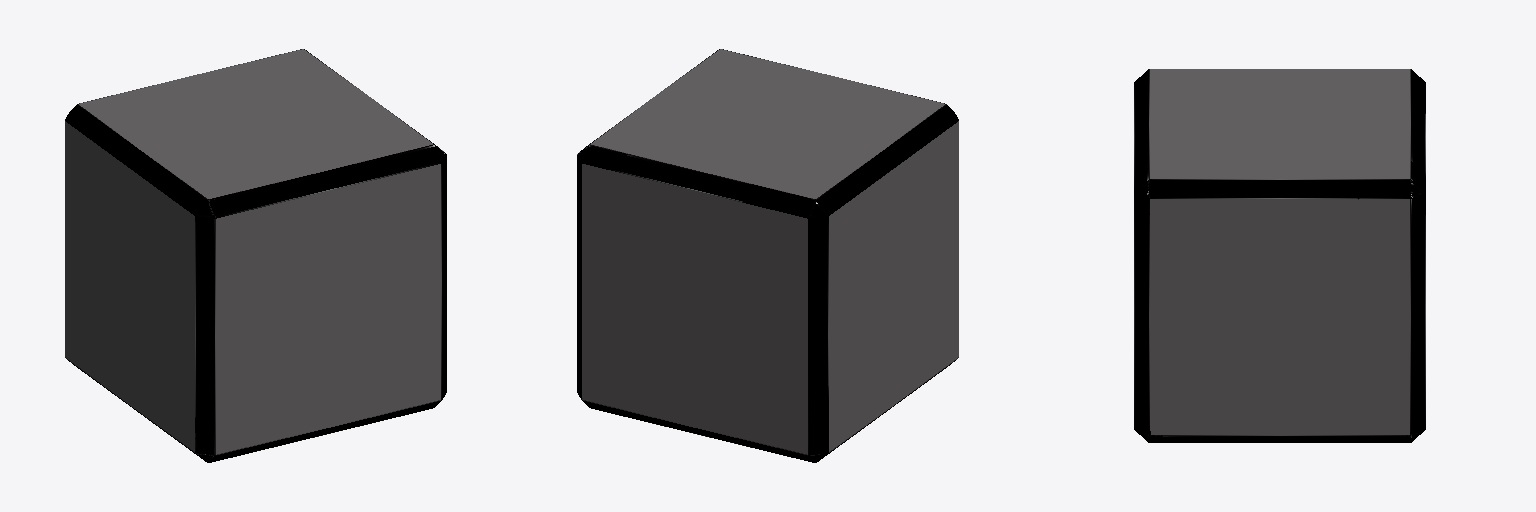
3 views of the same model, side by side, from view 1: azimuth 30°, elevation 25°; view 2: azimuth 150°, elevation 25°; view 3: azimuth 270°, elevation 25° (orthographic).
Visible parts, largest first — view 1: block; view 2: block; view 3: block.
Boxes of the visible parts, x1,y1,x2,y2 form: block: [65, 49, 446, 462]; block: [577, 49, 958, 462]; block: [1134, 69, 1425, 442].
Size of the model in its own units: 1 by 1 by 1.
1 materials, 1 textured.